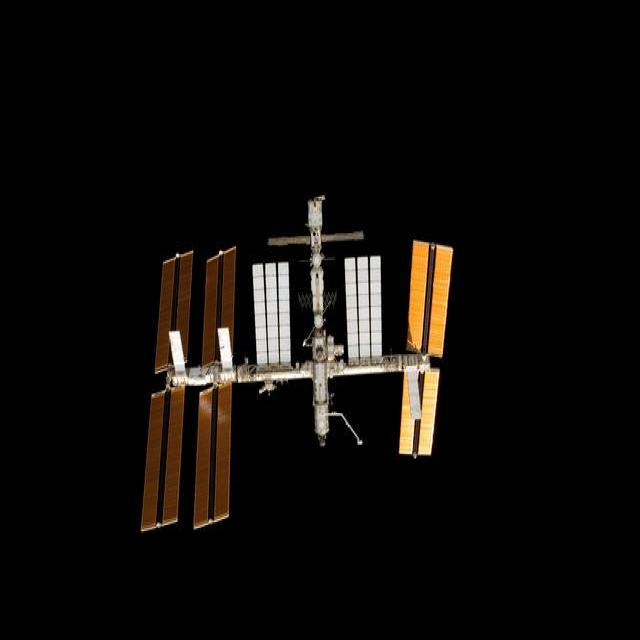medium_debris: (151, 217, 447, 531)
